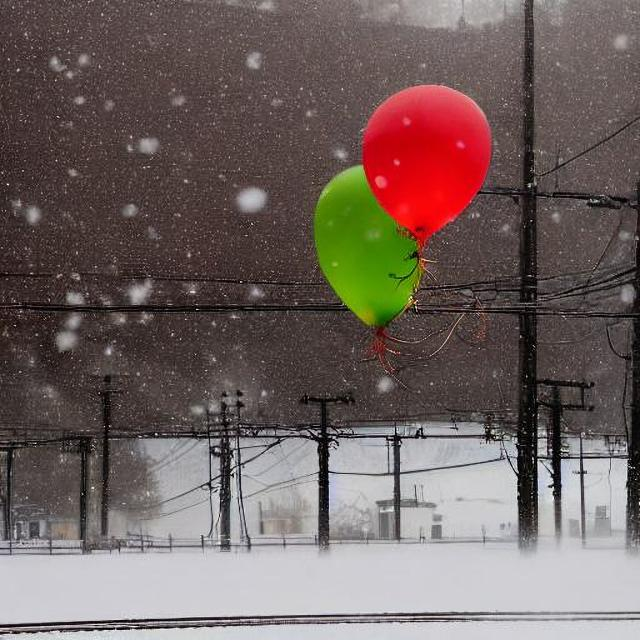balloon: (354, 78, 492, 308), (308, 171, 422, 334)
